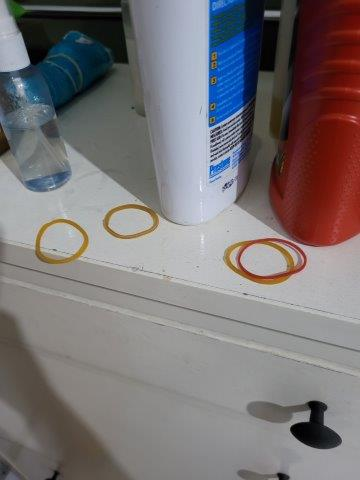karet: (223, 237, 308, 287), (34, 219, 89, 263), (102, 204, 160, 241)
